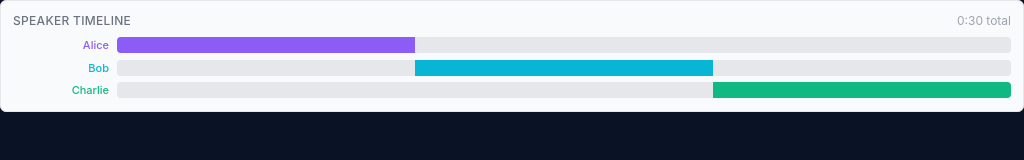
SpeakerTimeline include filter › the All button resets the filter to show everyone
Note: Narrow to Alice first, proving the filter is engaged.
Click the button "Alice" at point(61, 45), box [13,37,109,54]
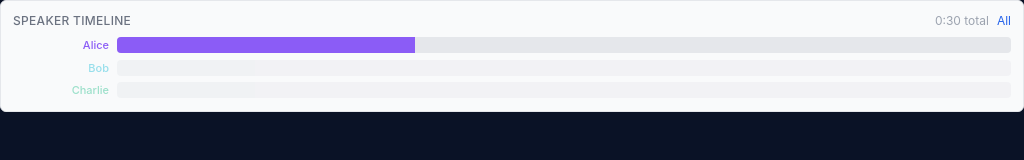
Click the button "All" at point(1004, 21), box [997,13,1011,29]
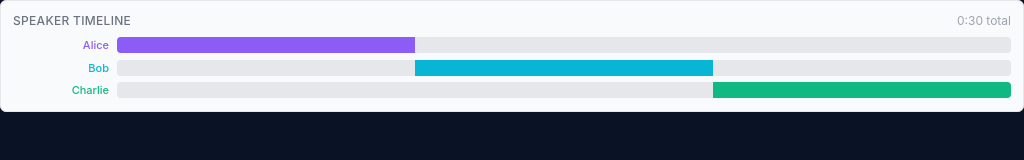
Expected: the button titled "Bob: 0:10 → 0:20" is shown, [415,60,713,76]
Expected: the button titled "Charlie: 0:20 → 0:30" is shown, [713,82,1011,98]
Expected: the button "All" is gone
